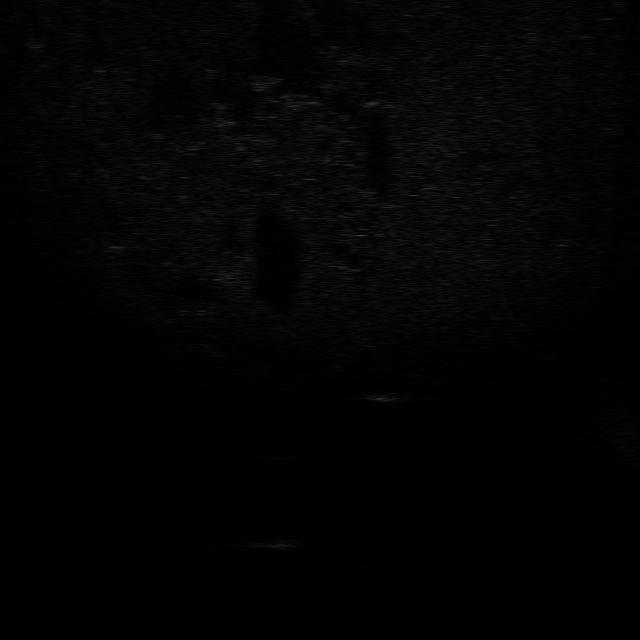cube: (248, 535, 298, 550)
square cage: (361, 389, 414, 406)
